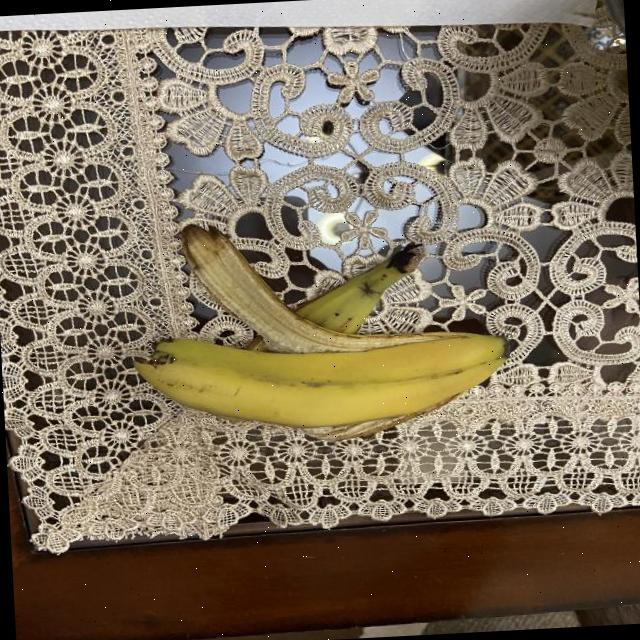banana-peel: (125, 206, 513, 449), (130, 318, 512, 444)
